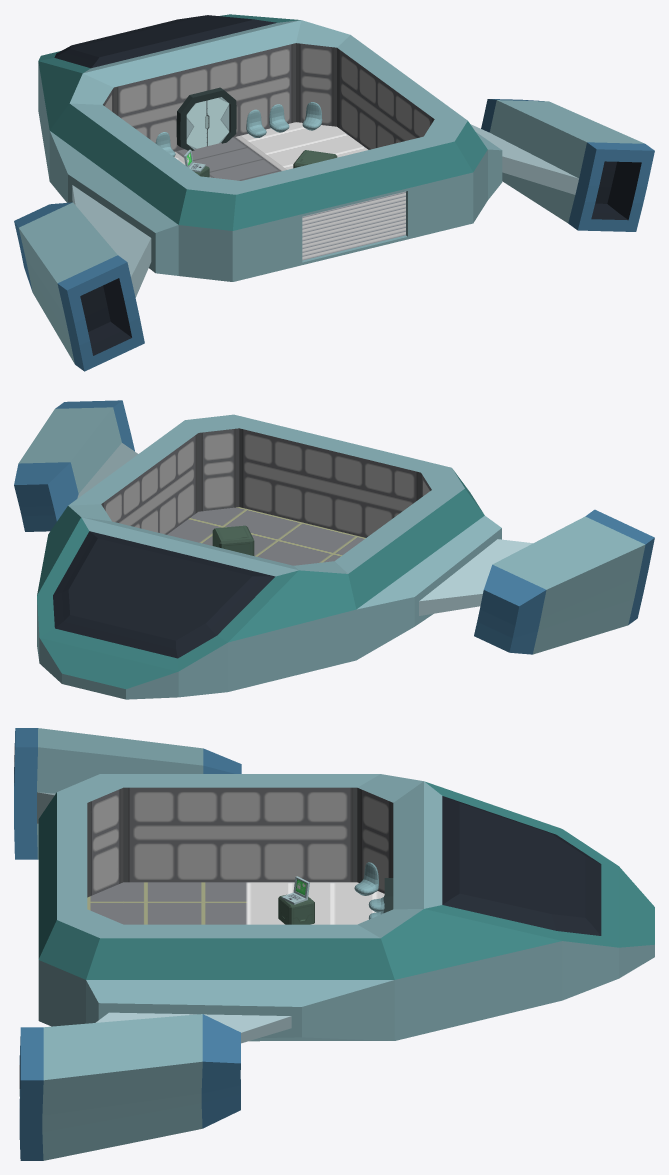
The model's file is SpaceShip.fbx.
The picture shows the model from 3 angles, top to bottom: view 1: azimuth 30°, elevation 25°; view 2: azimuth 150°, elevation 25°; view 3: azimuth 270°, elevation 25°; orthographic projection. The views are drawn at different scales.
Visible parts, largest first — view 1: Spaceship, Door; view 2: Spaceship, Box02; view 3: Spaceship, Box01.
Part boxes in pixels (x1,y1,x2,y2): Spaceship: (14,14,654,371); Door: (176,87,236,150); Spaceship: (14,400,654,699); Box02: (212,525,254,555); Spaceship: (14,728,654,1160); Box01: (278,894,314,924).
Size of the model in its own units: 1812 by 387 by 1423.
